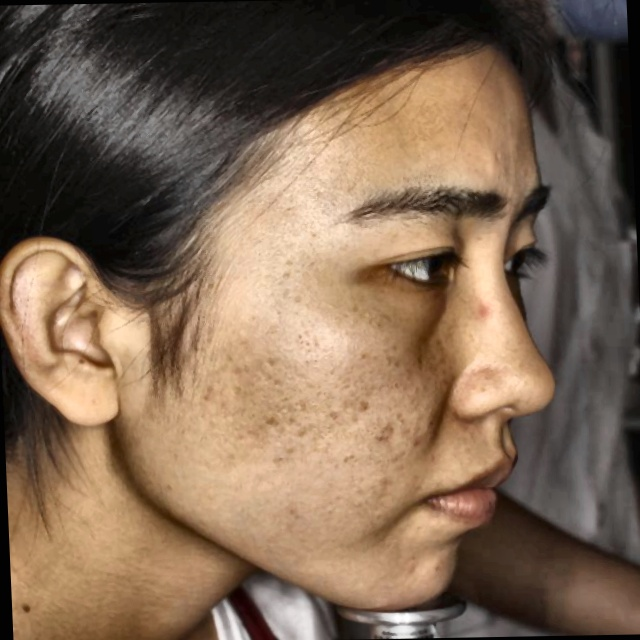comedone: (466, 299, 507, 326), (408, 422, 419, 453)
